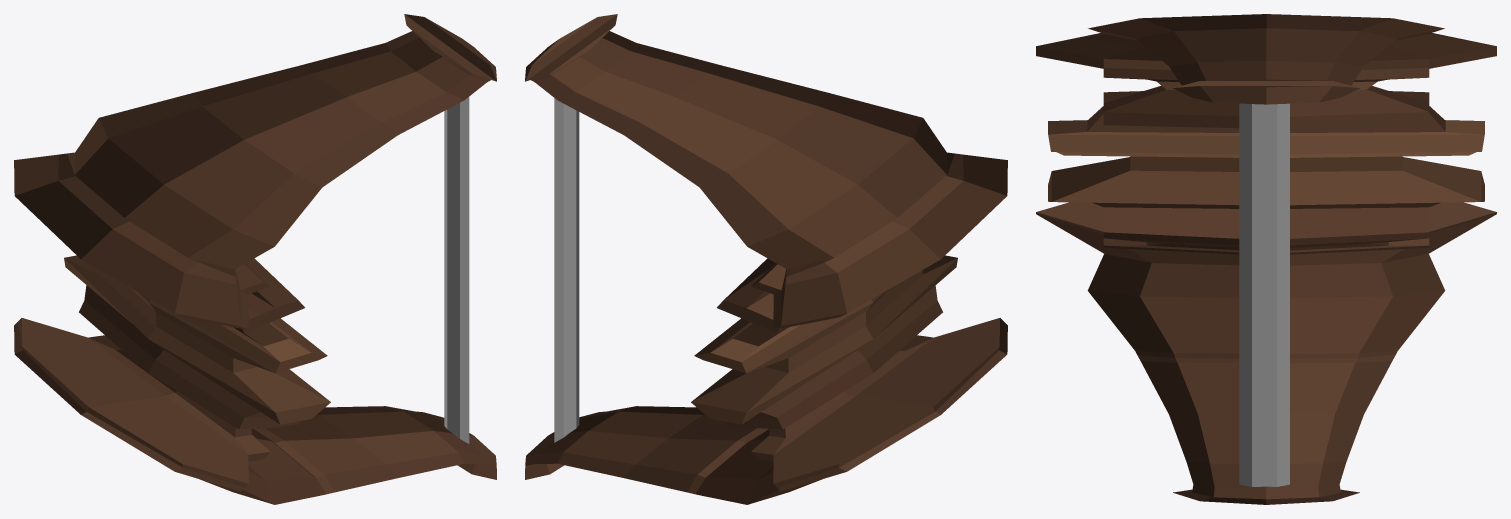
The model's file is gild_bow_wooden.glb.
3 renders of one model, left to right at view 1: azimuth 30°, elevation 25°; view 2: azimuth 150°, elevation 25°; view 3: azimuth 270°, elevation 25°, orthographic.
Bounding box in the file's own units: 2 × 2 × 2.
